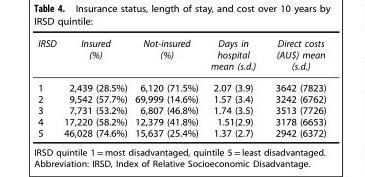table: (37, 37, 325, 138)
table column: (130, 37, 203, 138), (59, 37, 130, 138), (203, 37, 264, 138), (264, 37, 325, 138), (37, 37, 59, 138)
table column header: (37, 37, 325, 76)
table row: (37, 37, 325, 76), (37, 76, 325, 93), (37, 115, 325, 127), (37, 93, 325, 104), (37, 104, 325, 115), (37, 127, 325, 138)
